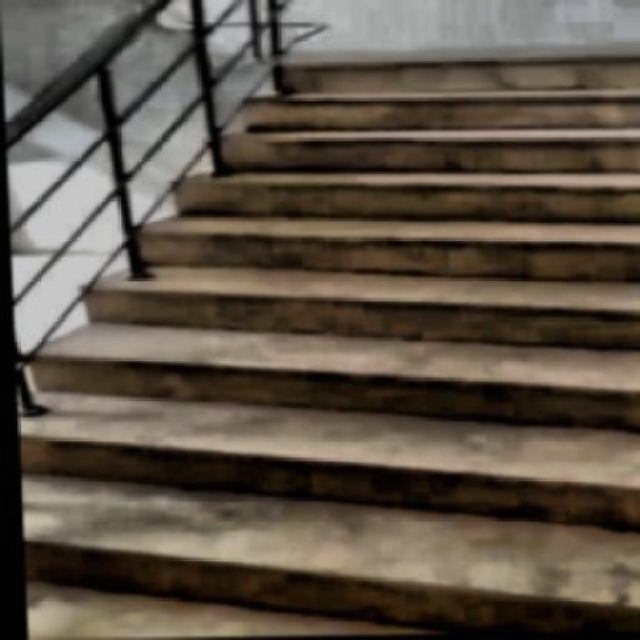stair: (3, 50, 639, 639)
